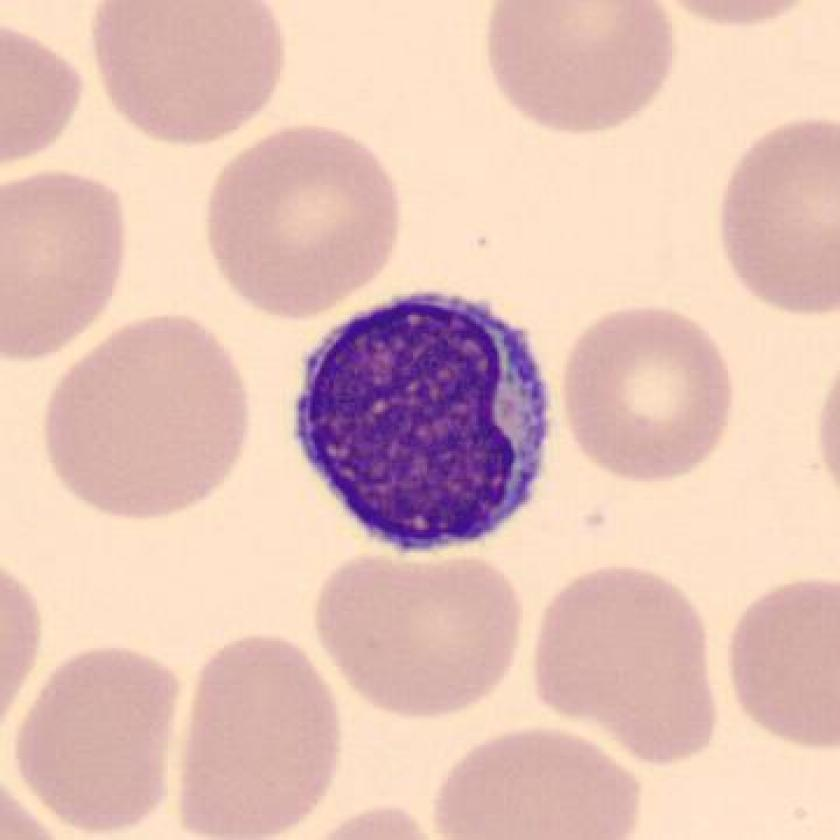lymphocyte: (272, 279, 582, 563)
